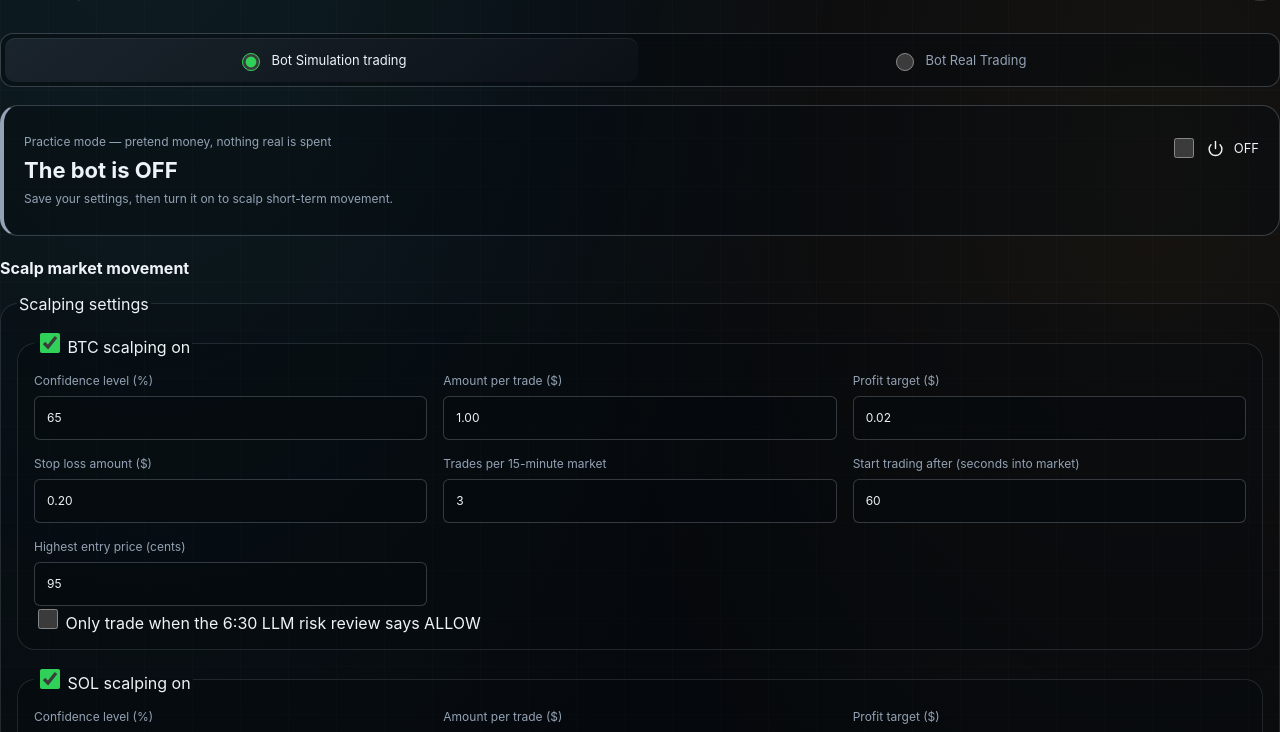
Test case: Trading tab › pushes changed probabilities and new markets without overwriting unsaved rules
Clear the field named "BTC Amount per trade ($)" at point(640, 418), box [443,396,837,440]
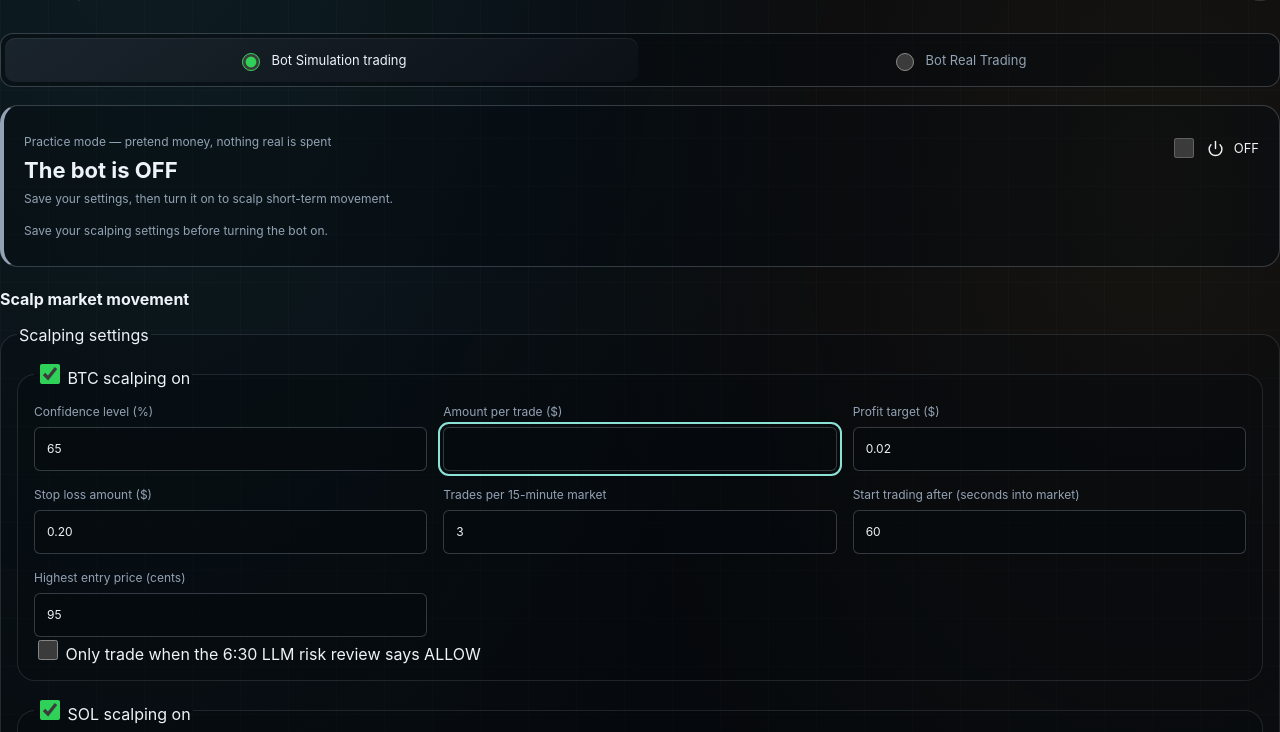
Type "1.75" into the field named "BTC Amount per trade ($)" at point(640, 449), box [443,427,837,471]
(page scrolled)
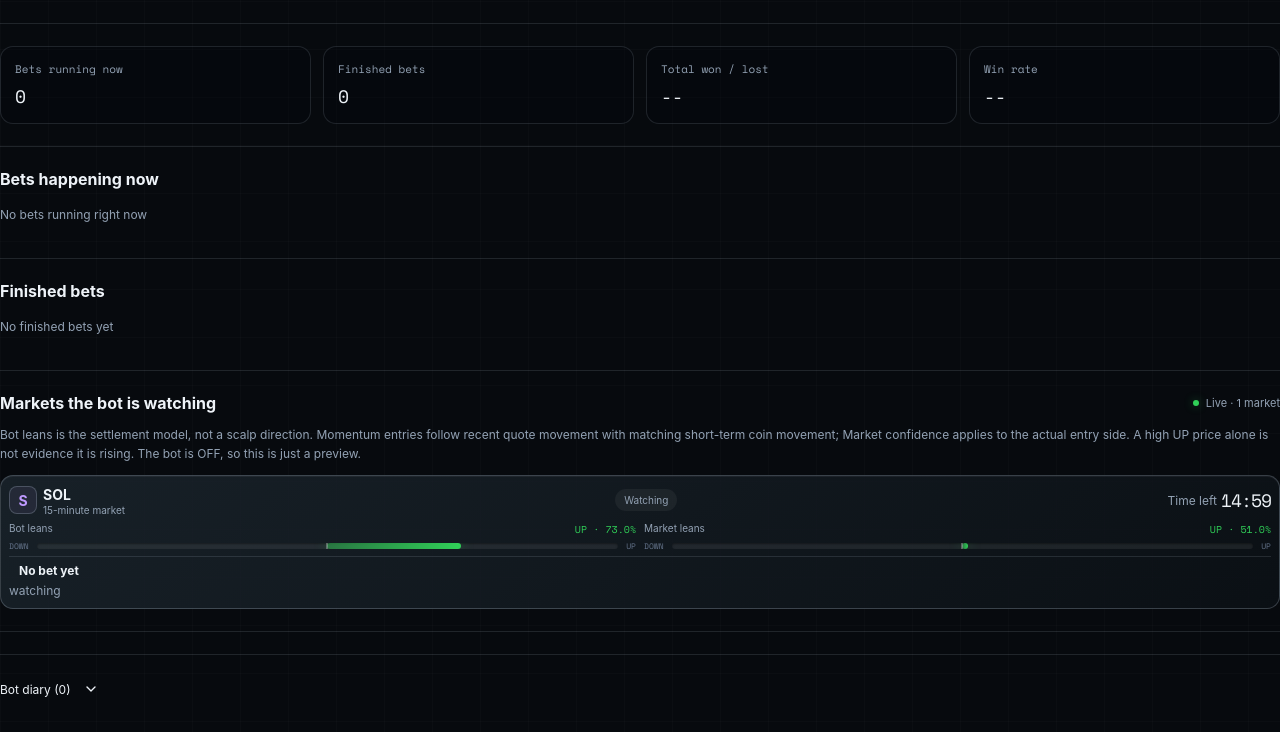
Check: the picture named "Market leans: up at 51.0%" is shown, box [644,522,1271,552]
Check: the text "Live · 1 market" is shown, box [1193,396,1279,410]
Check: the picture named "Bot leans: up at 73.0%" is shown, box [9,522,636,552]
